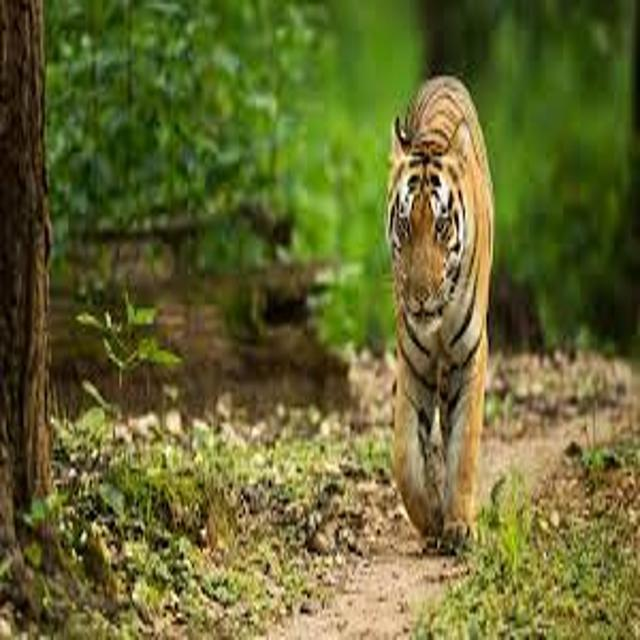Tiger: (362, 59, 526, 587)
